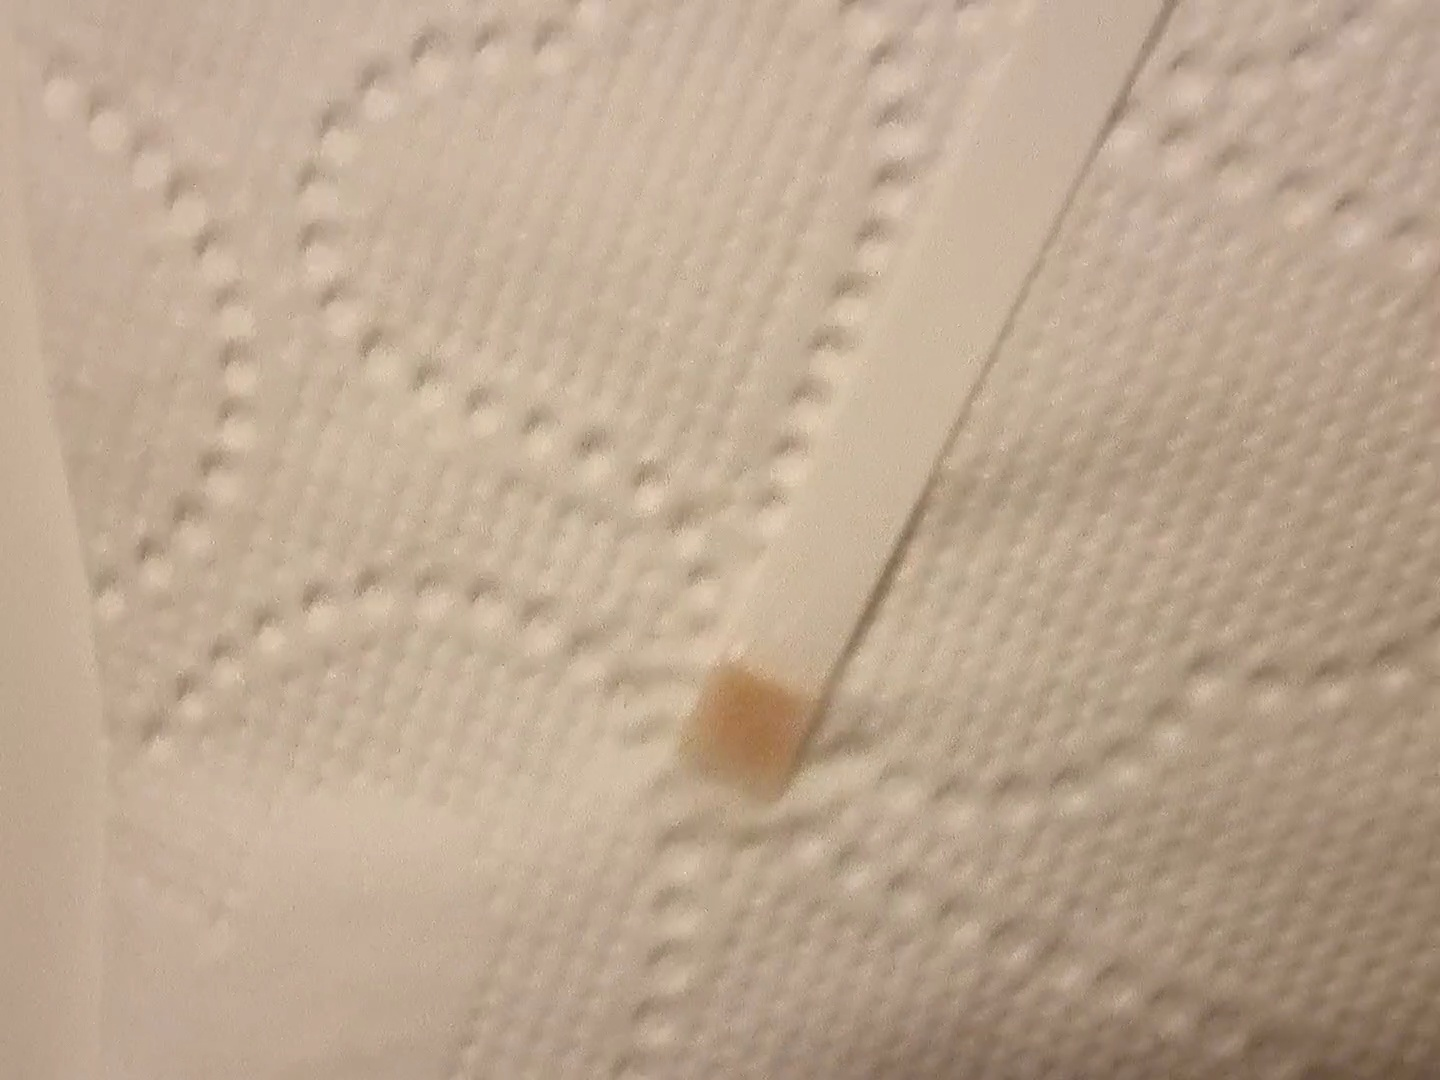keto-tip: (668, 653, 831, 813)
